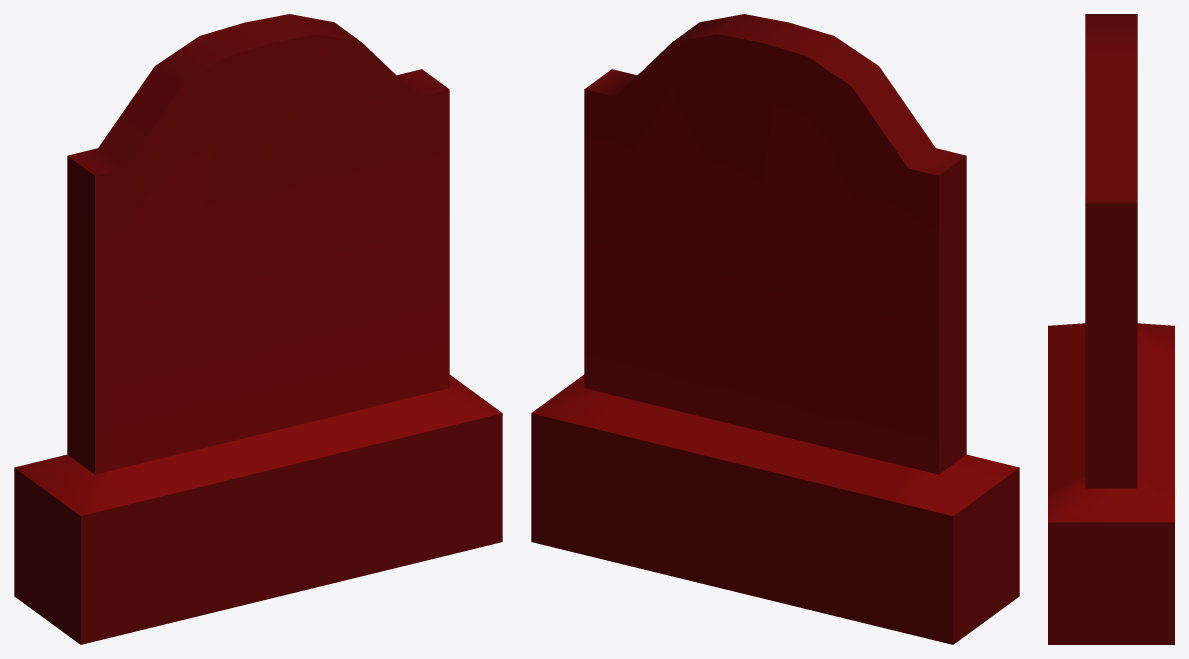
File: geology-carvedstone-gravestone_v4.fbx
The picture shows the model from 3 angles, left to right: view 1: azimuth 30°, elevation 25°; view 2: azimuth 150°, elevation 25°; view 3: azimuth 270°, elevation 25°; orthographic projection. The views are drawn at different scales.
Parts seen in each view (by area): view 1: Gravestone_v4; view 2: Gravestone_v4; view 3: Gravestone_v4.
Part boxes in pixels (left/top/right/bottom): Gravestone_v4: left=14, top=14, right=502, bottom=644; Gravestone_v4: left=531, top=14, right=1019, bottom=644; Gravestone_v4: left=1048, top=14, right=1174, bottom=644.
Size of the model in its own units: 3.91 by 4.75 by 1.07.
